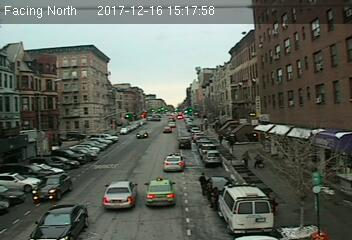car: (25, 201, 88, 240), (33, 172, 71, 202), (102, 180, 137, 209), (143, 178, 176, 205), (200, 151, 222, 165), (177, 137, 191, 147), (135, 130, 148, 137)
police: (214, 180, 276, 235), (163, 152, 187, 172)
